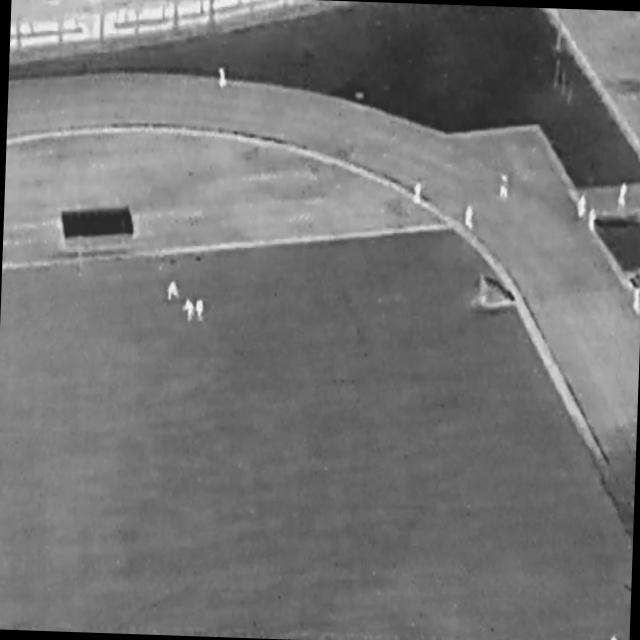person: (184, 299, 195, 324), (618, 183, 629, 208), (577, 195, 588, 220), (500, 175, 511, 200), (464, 205, 475, 230), (168, 282, 180, 302), (196, 300, 206, 324), (632, 287, 640, 316), (588, 209, 597, 233), (218, 68, 228, 89), (413, 184, 423, 205), (608, 635, 619, 640)
